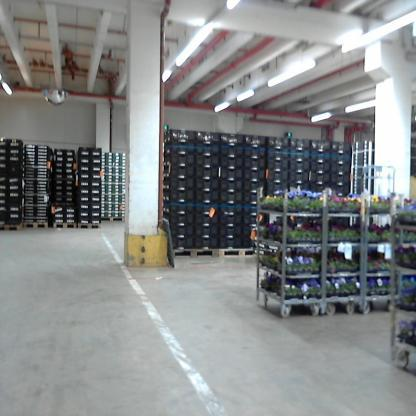pallets: (160, 243, 272, 263), (20, 221, 49, 228), (0, 223, 19, 230)
